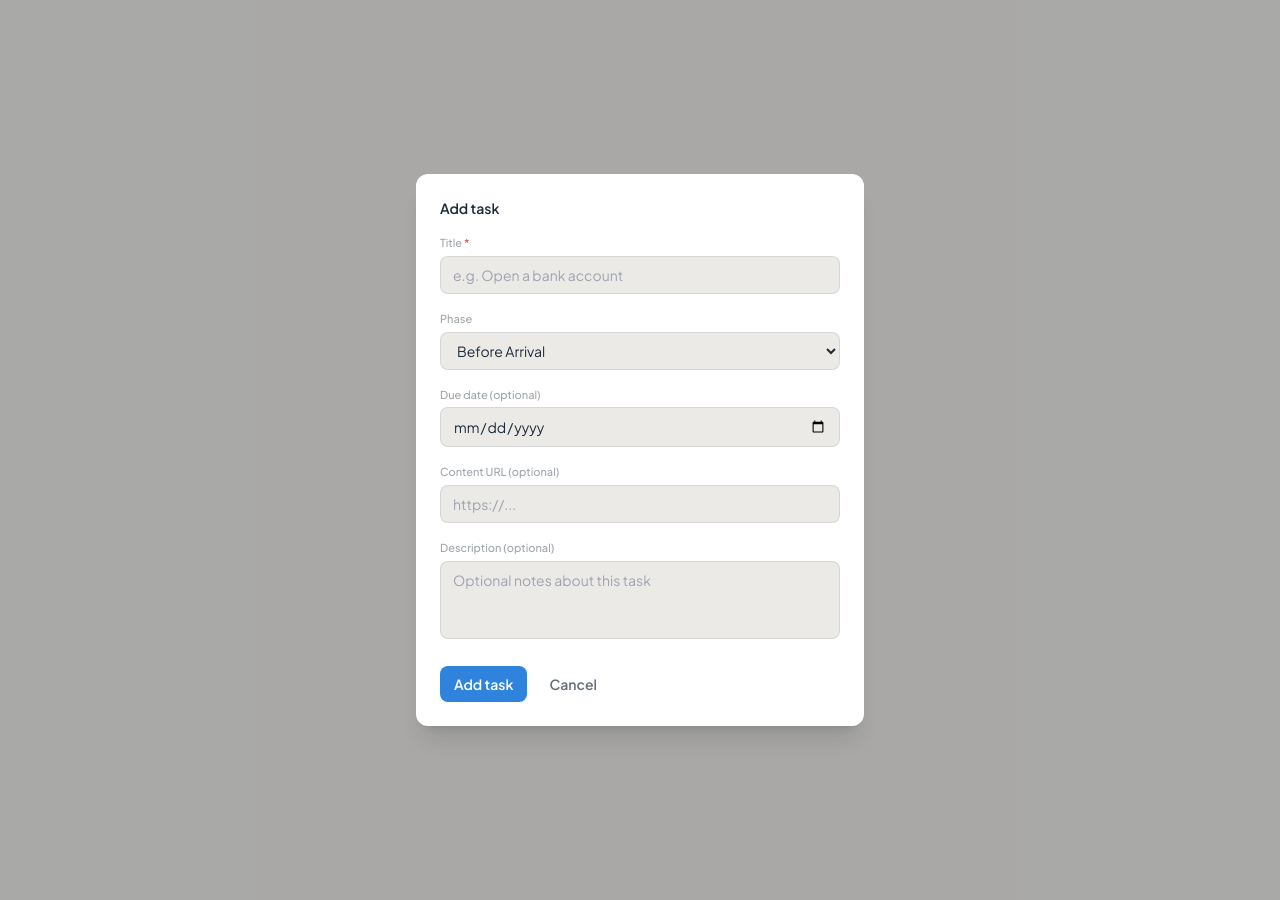
PlanTaskAddModal › shows an inline error when title is empty and Add task is clicked
The width and height of the screenshot is (1280, 900).
Click the button "Add task" at point(484, 684), box [440,666,527,702]
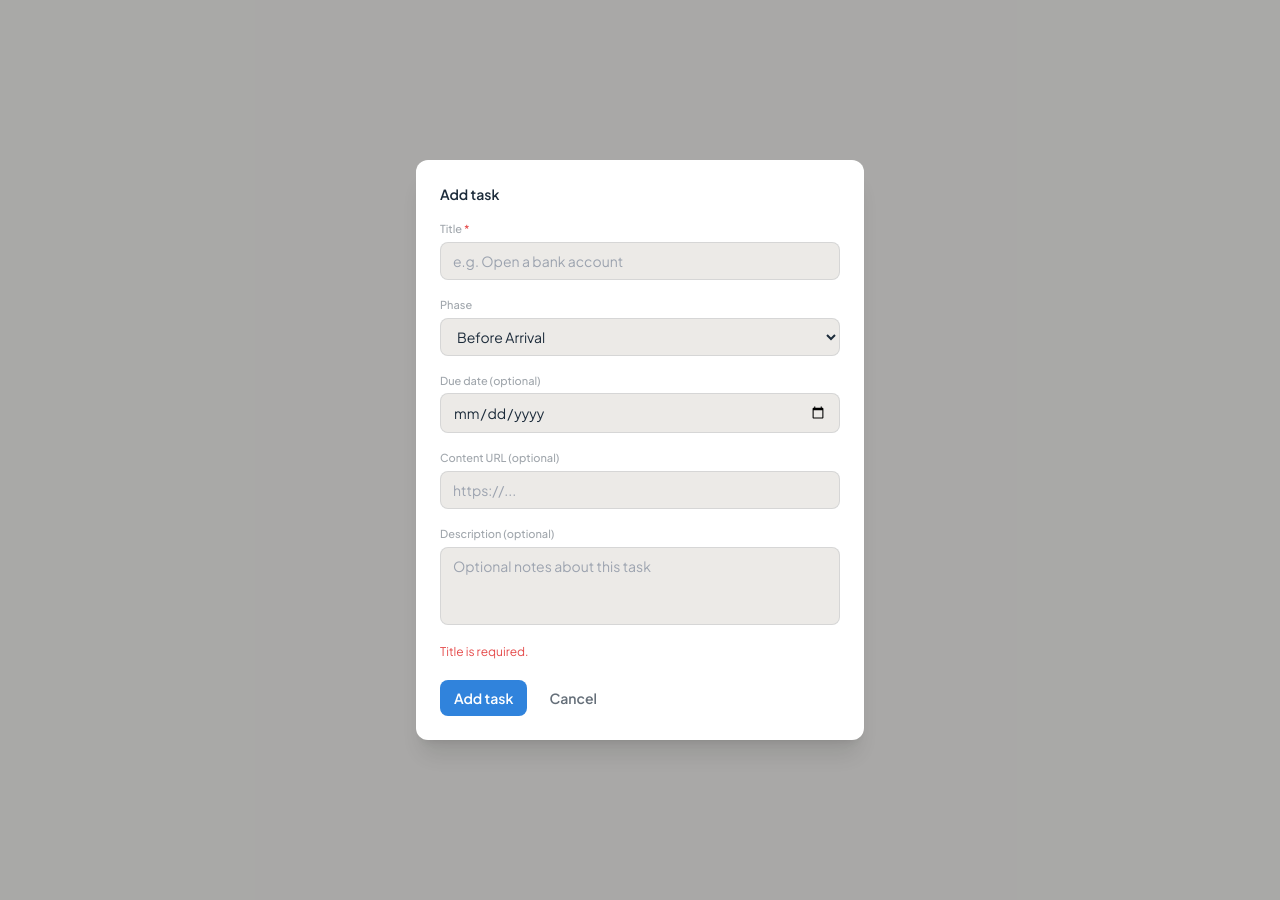
Result: the text "Title is required." is shown at [440,644,529,659]
